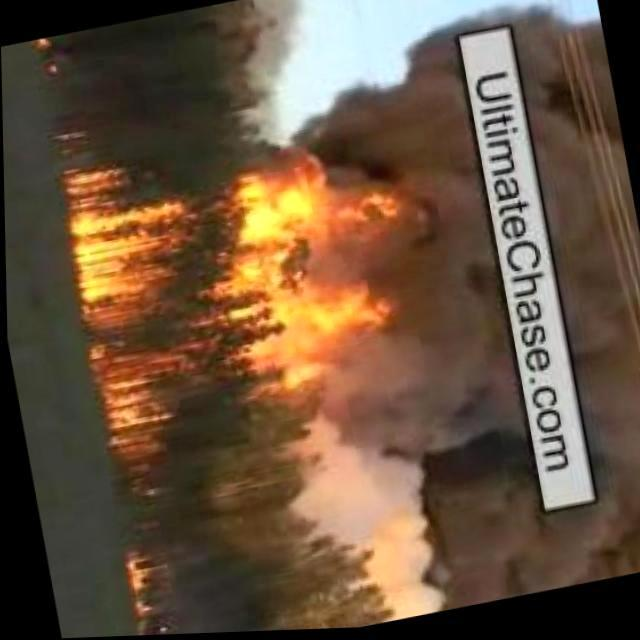fire: (212, 139, 444, 407), (62, 160, 230, 476), (118, 538, 174, 630)
